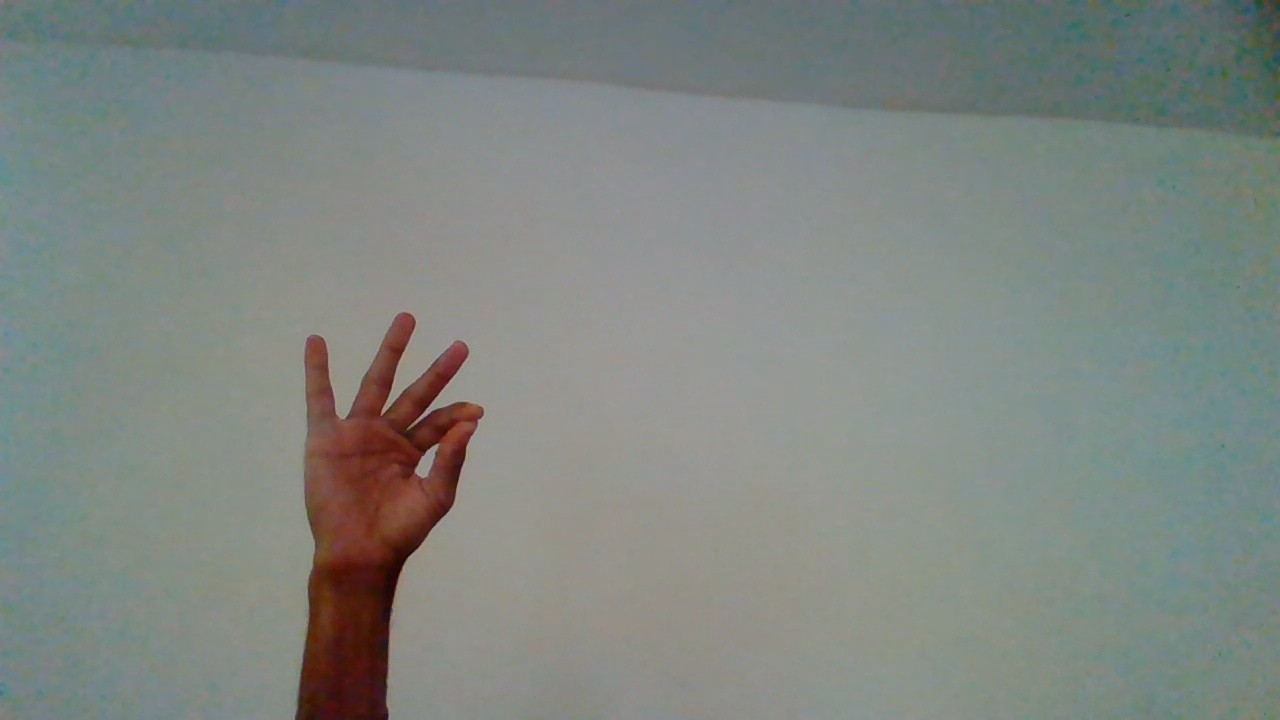le: (291, 305, 497, 704)
